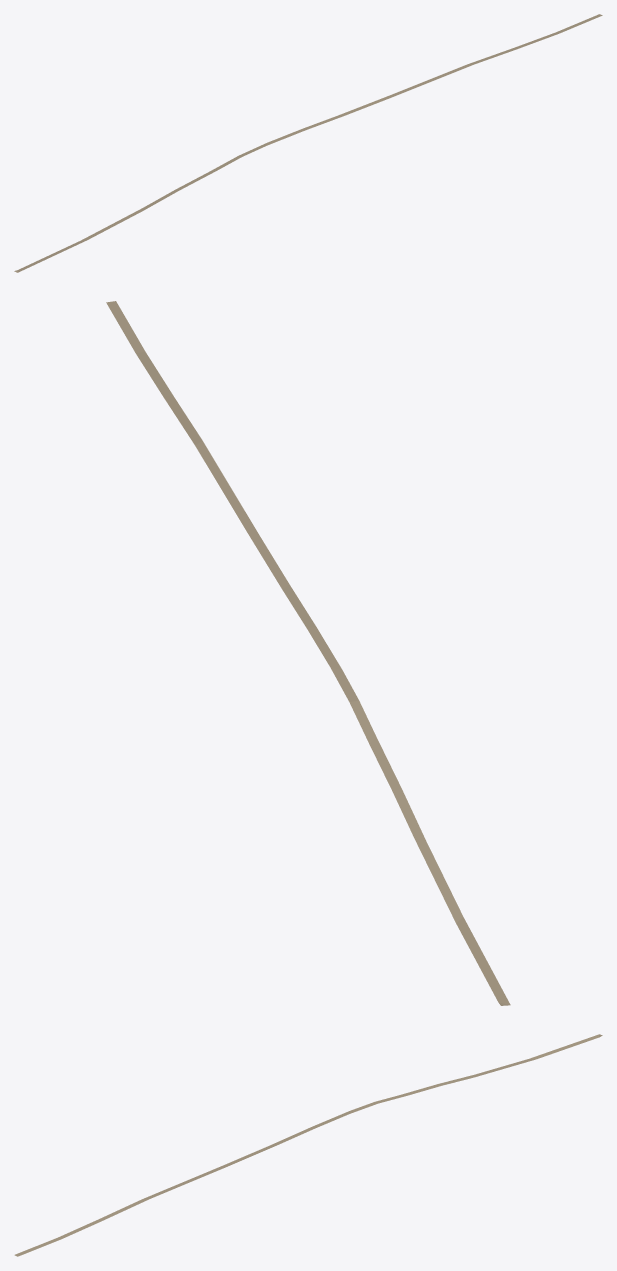
File: farm_-2_2_track.glb
3 views of the same model, one above another, from view 1: azimuth 90°, elevation 25°; view 2: azimuth 150°, elevation 25°; view 3: azimuth 270°, elevation 25° (orthographic). The views are drawn at different scales.
Visible parts, largest first — view 1: geometry_0; view 2: geometry_0; view 3: geometry_0.
Part boxes in pixels (bbox=[...]): geometry_0: bbox=[14, 14, 602, 272]; geometry_0: bbox=[106, 301, 510, 1005]; geometry_0: bbox=[14, 1034, 602, 1256].
Bounding box in the file's own units: 366 × 18.08 × 378.
